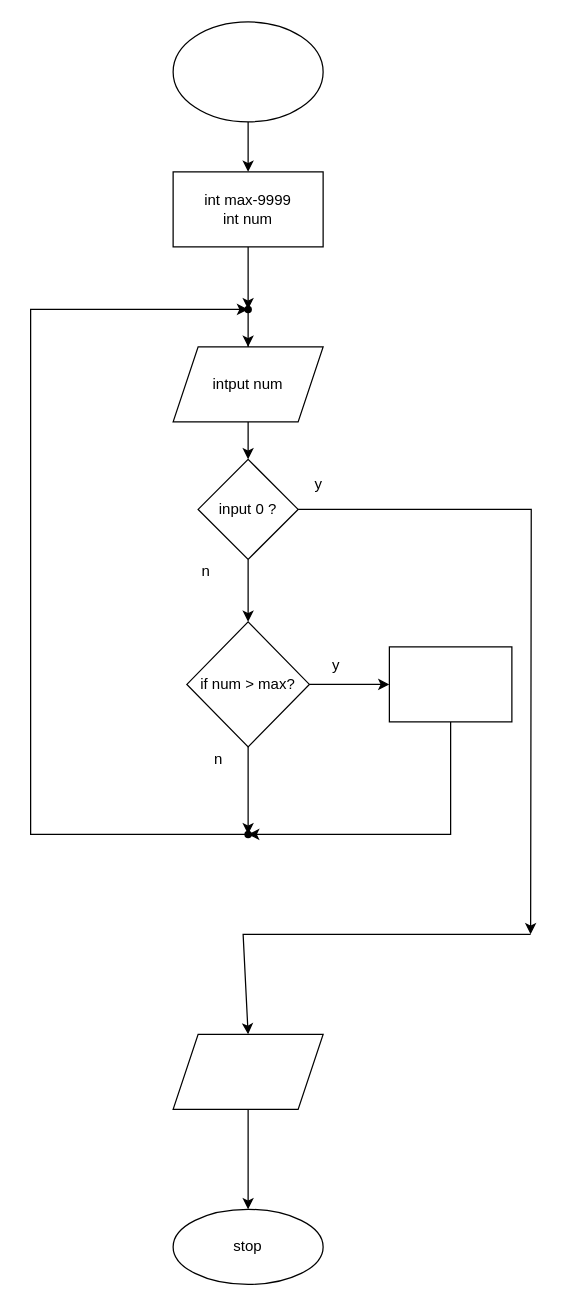
Some shapes in this 564 by 1306 pixel diagram are drawn without their labels. Here are the shapes that lost their labels. From the top down, the centre of each, then its label:
At [247,71]: "start".
At [450,684]: "max = num".
At [247,1071]: "output max".
